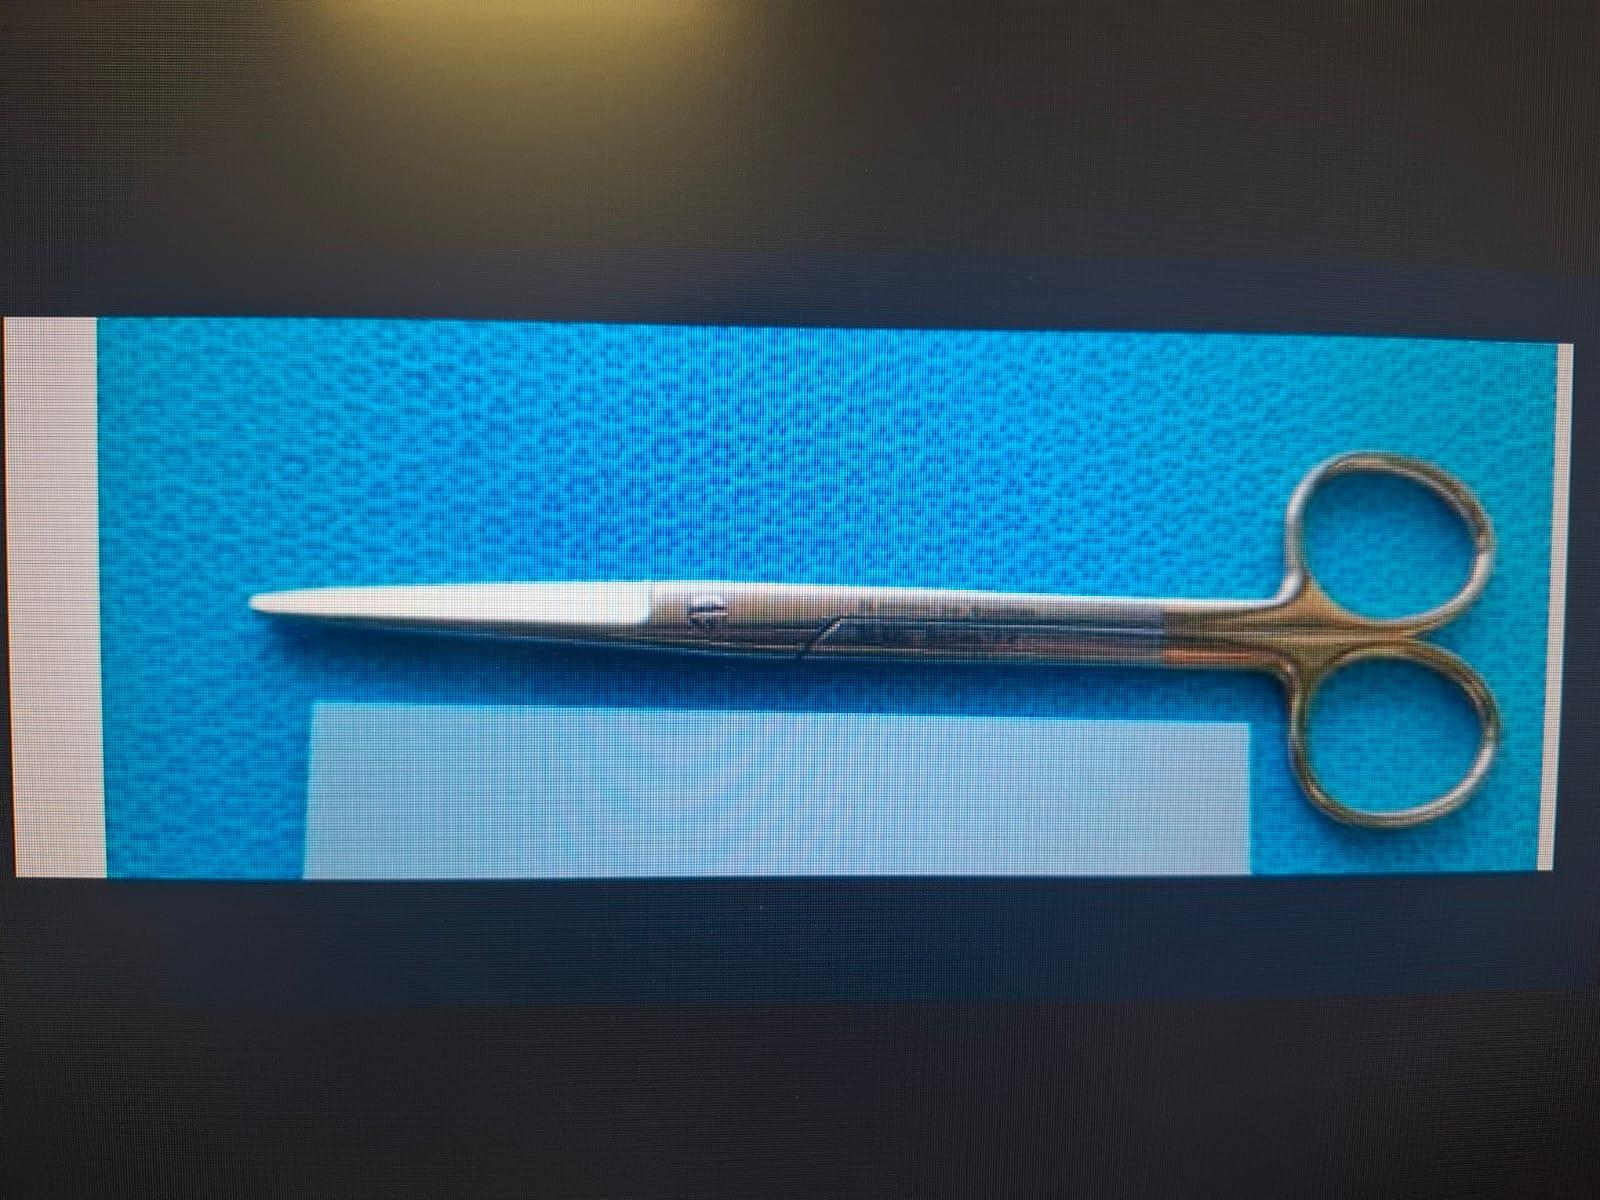Straight Mayo: (231, 446, 1506, 838)
